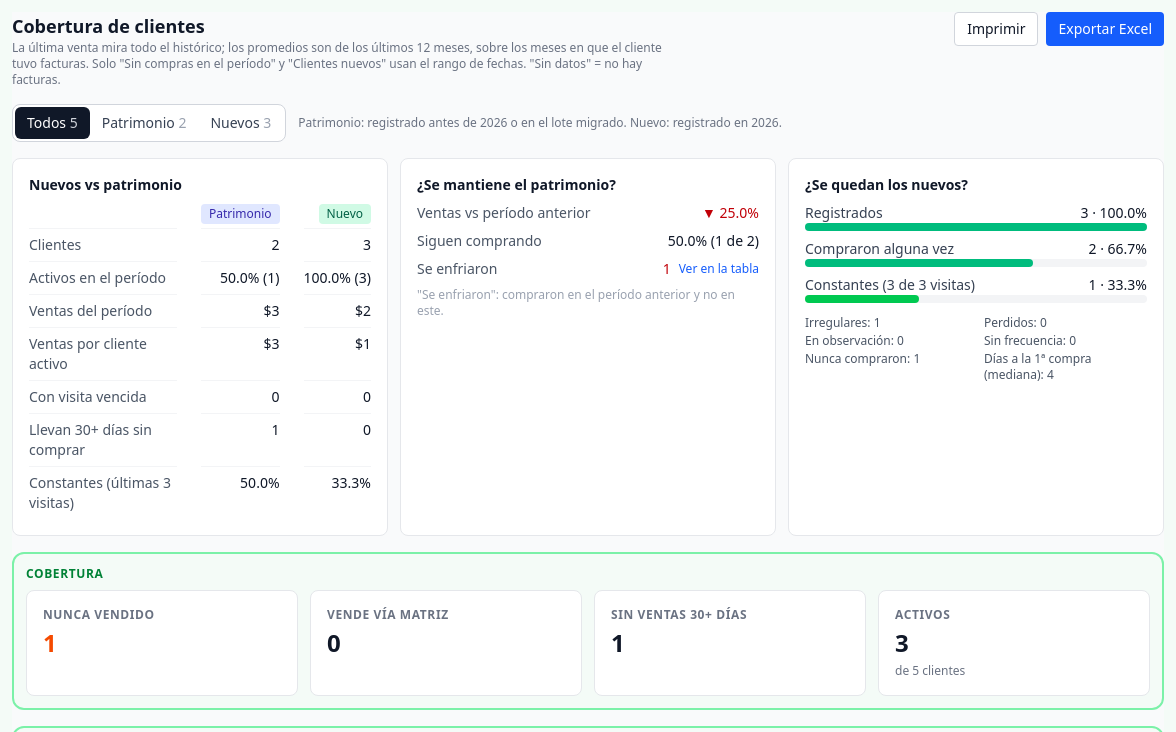
Scenario: CoberturaClientes: nuevos vs patrimonio › the switch shows the counts per kind and scopes the table and the KPIs, not the comparison
Expected: the button "Todos 5" is shown, [15,107,90,139]
Expected: the button "Patrimonio 2" is shown, [90,107,198,139]
Click the button "Nuevos 3".
click(241, 123)  # box [198,107,283,139]
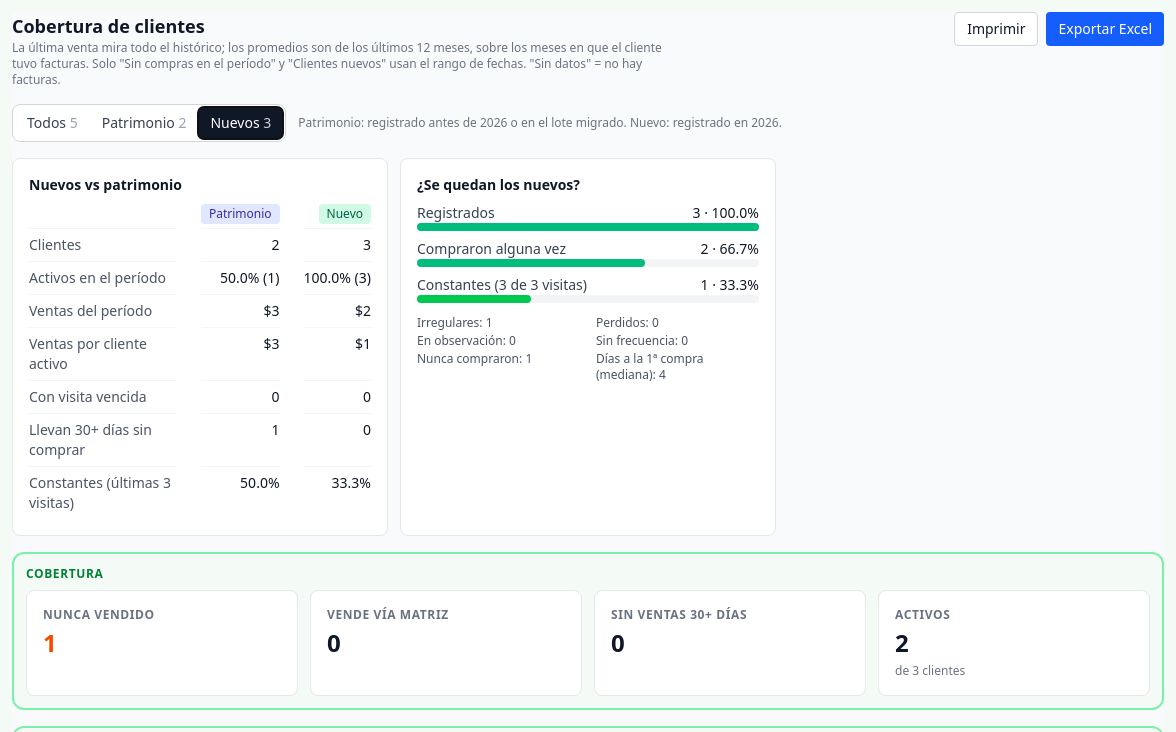
Expected: the cells read "2", "3", in this order, [201,228,280,261]; [304,228,371,261]
Expected: the text "de 3 clientes" is shown, [895,662,965,679]
